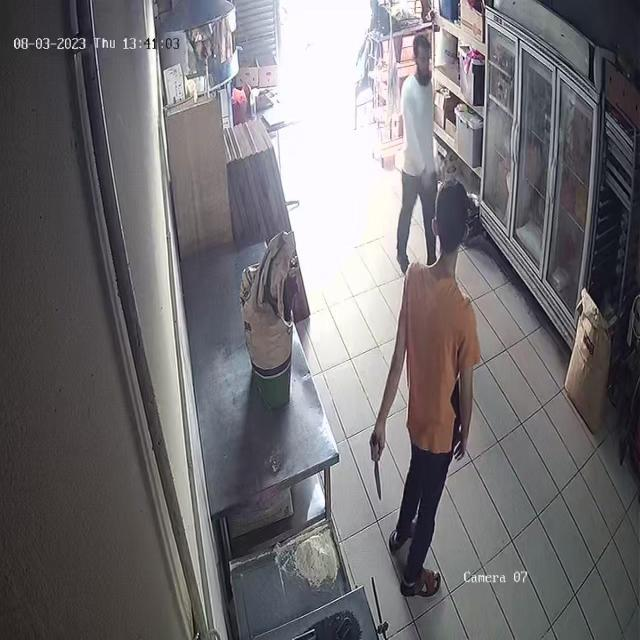Knife: (367, 440, 385, 512)
